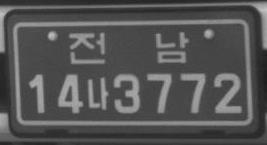1: (26, 72, 51, 114)
2: (213, 71, 243, 114)
3: (112, 71, 141, 115)
4: (57, 72, 83, 114)
7: (178, 71, 208, 114)
9: (145, 71, 172, 116)
나: (87, 75, 109, 110)
전남_D: (67, 30, 190, 67)
